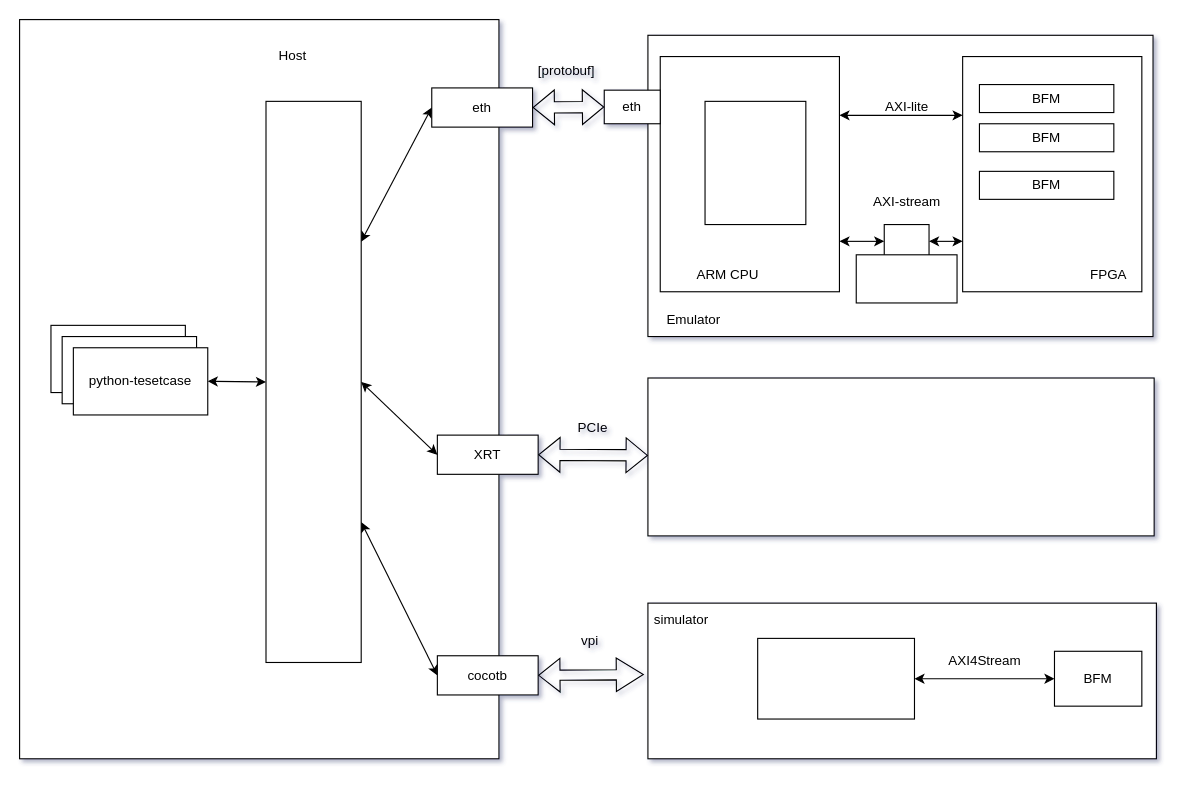
Image size: 1183x785. Some labels were removed from this diagram. Each missing label, with the centre of its shape:
"DDR" goes at point 906,278.
"DMA" goes at point 906,240.
"LWIP/Linux app" goes at point 755,162.
"Python Lib" goes at point 313,381.
"Wrapper" goes at point 835,678.
"加速卡" goes at point 900,456.
